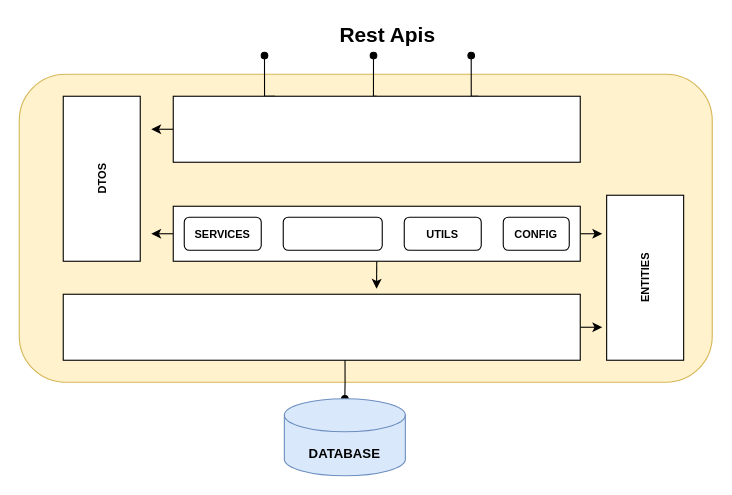
Some shapes in this 732 by 495 pixel diagram are drawn without their labels. The box of each missing label's shape, as (x1, y1, x2, y2) in pixels:
JPA REPOSITORY: (62, 293, 580, 360)
MAPPERS: (282, 216, 382, 250)
REST CONTROLLER: (172, 95, 580, 162)
